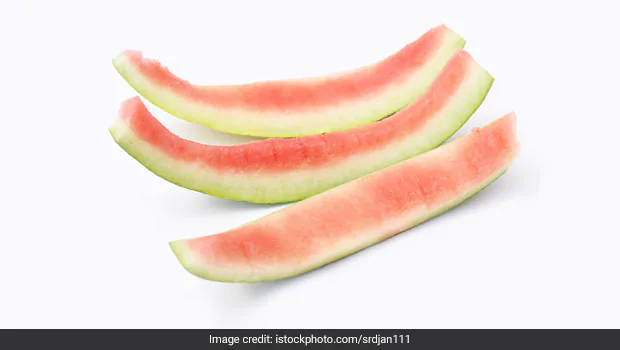food_waste: (85, 24, 550, 279)
